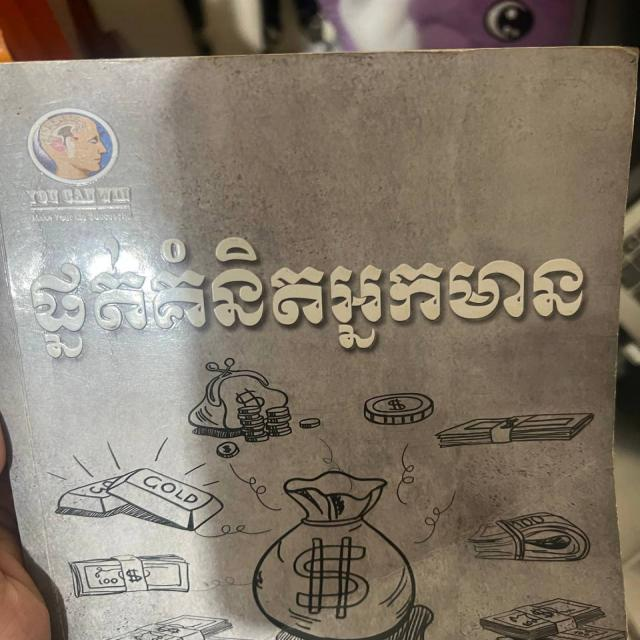Yolov11_80vkh: (23, 231, 590, 373)
